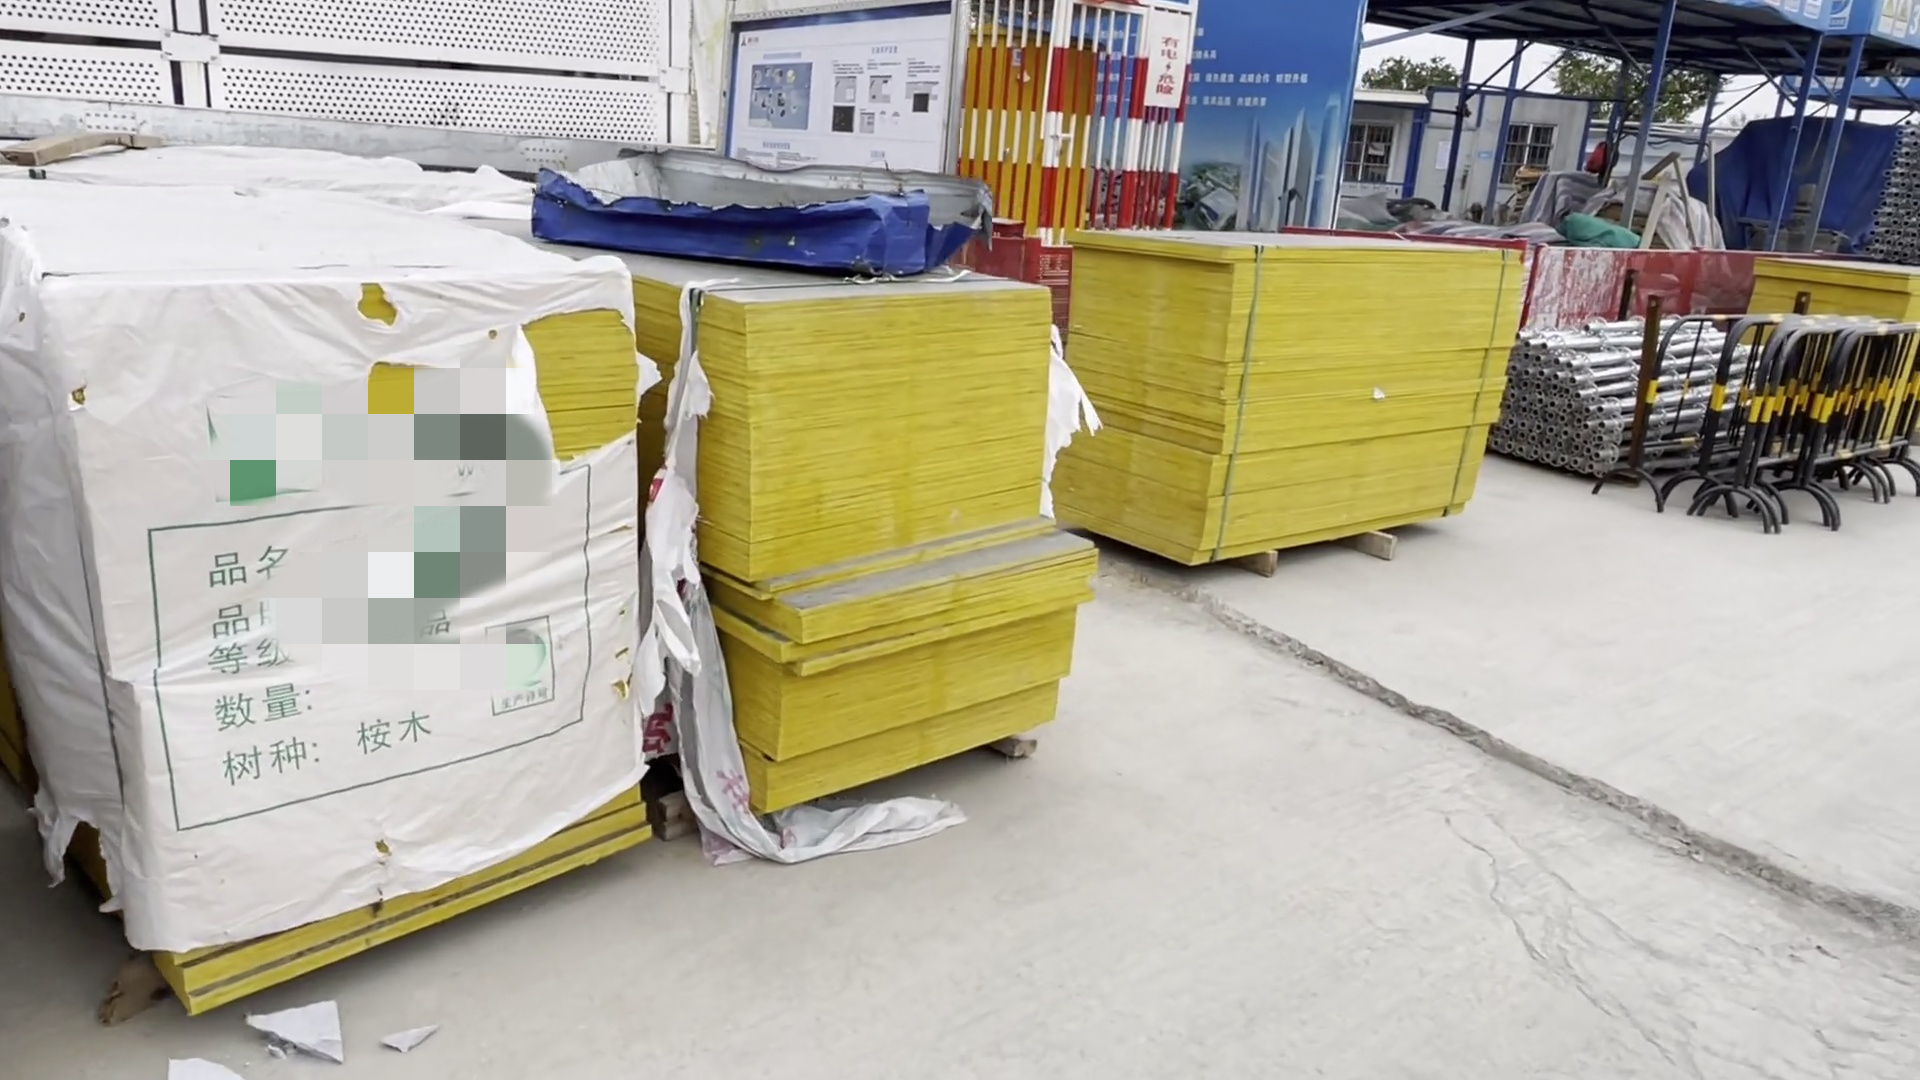board: (654, 284, 1093, 822), (1073, 235, 1516, 582)
